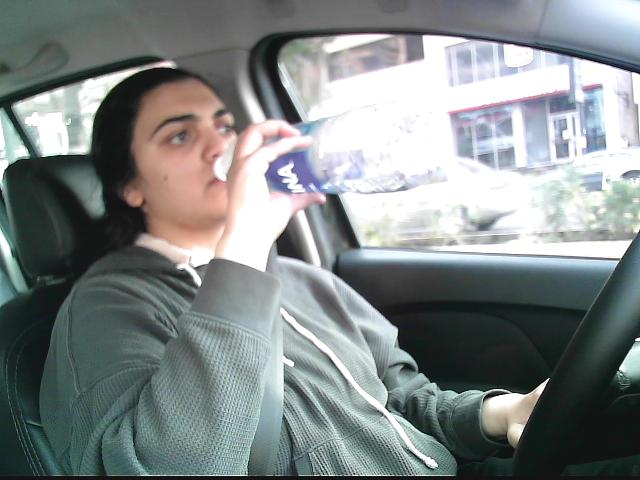Drinking: (211, 95, 456, 197)
